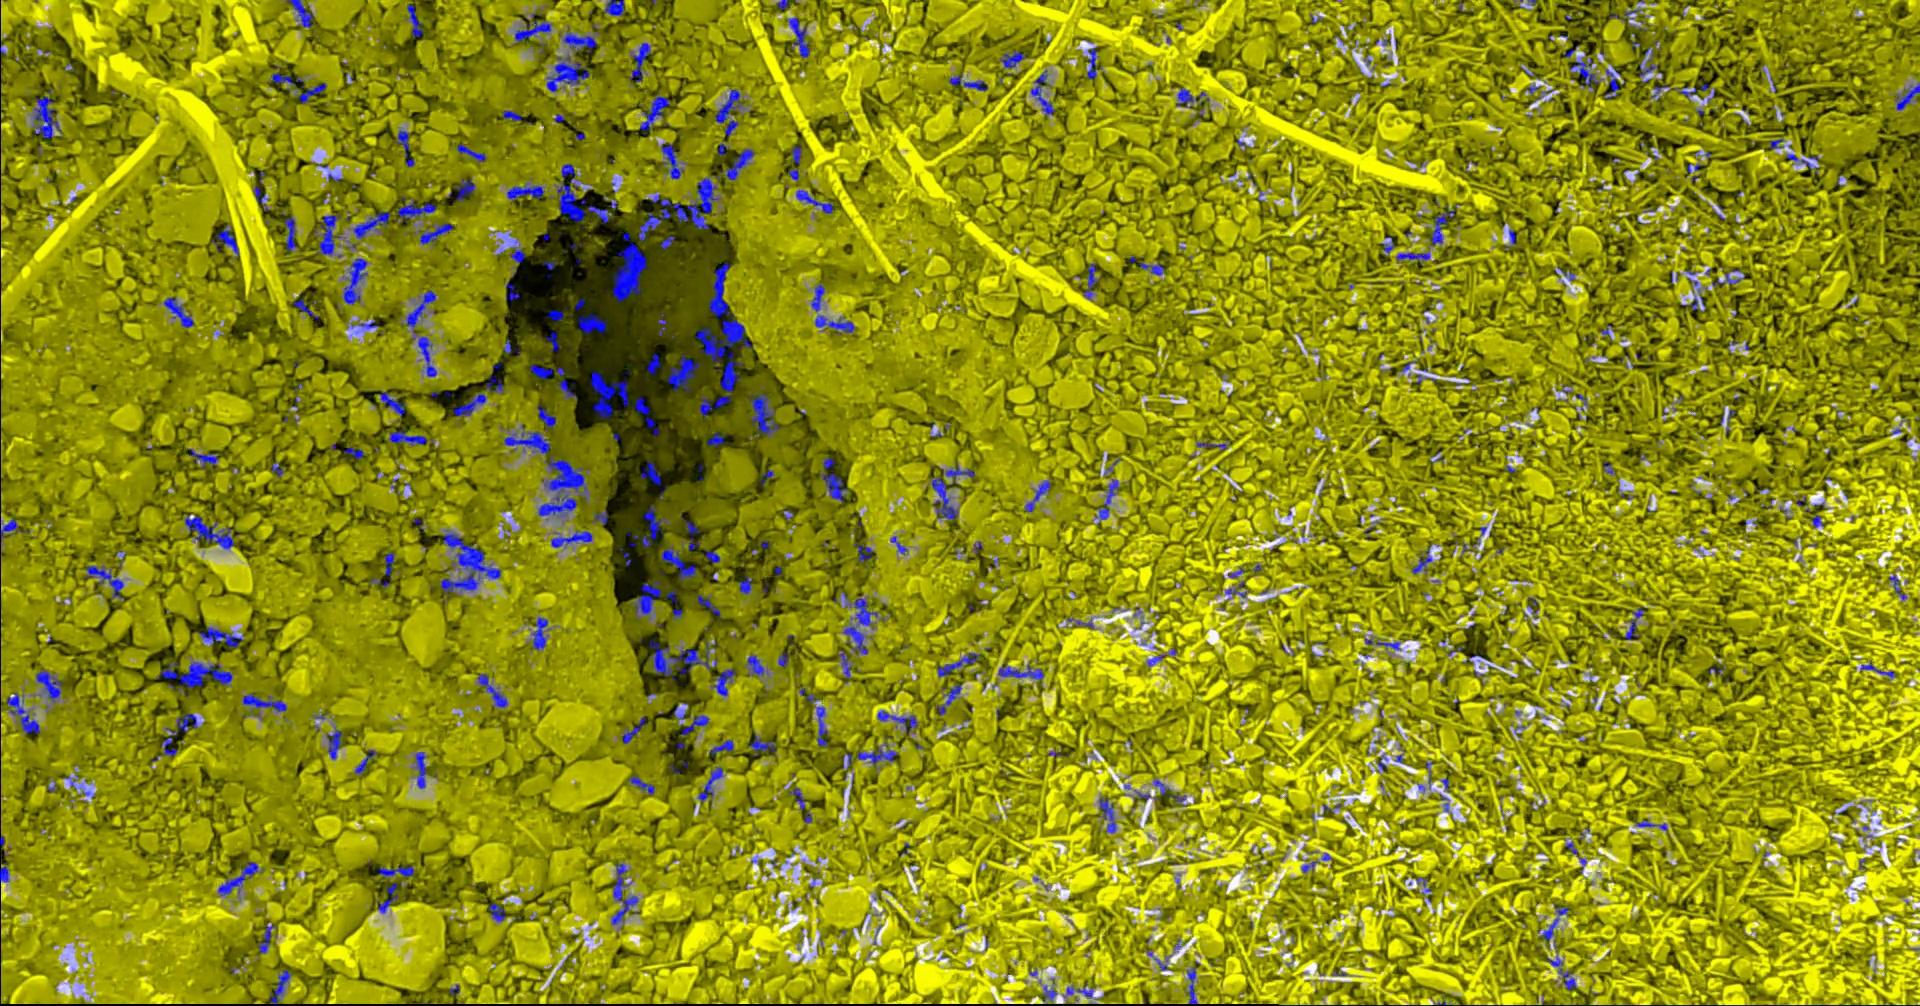ant: (556, 163, 616, 222), (648, 640, 717, 676), (155, 661, 231, 691), (589, 370, 629, 418), (626, 506, 667, 547), (610, 862, 637, 923), (184, 513, 232, 547), (530, 365, 577, 399), (546, 55, 589, 91), (160, 713, 197, 756), (217, 861, 262, 895), (401, 290, 436, 333), (32, 89, 61, 138), (749, 387, 778, 436), (83, 565, 123, 598), (6, 692, 39, 733), (714, 89, 742, 136), (503, 426, 550, 453), (818, 457, 847, 500), (660, 546, 696, 580), (630, 580, 662, 619), (637, 97, 669, 133), (667, 354, 698, 391), (931, 476, 957, 520), (856, 737, 897, 765), (1030, 69, 1054, 116), (343, 258, 367, 304), (1095, 479, 1119, 525), (937, 652, 980, 677), (720, 149, 754, 180), (514, 13, 551, 42), (316, 213, 342, 255), (1430, 205, 1455, 245), (352, 211, 390, 238), (477, 673, 507, 708), (876, 709, 917, 733), (632, 396, 658, 434), (640, 460, 665, 498), (411, 337, 436, 376), (786, 17, 809, 57), (197, 626, 243, 647), (563, 25, 596, 53), (1547, 956, 1575, 989), (795, 189, 833, 213), (697, 766, 723, 801), (1570, 57, 1599, 88), (163, 297, 193, 326), (395, 199, 436, 221), (629, 42, 650, 81), (211, 224, 237, 255), (243, 694, 286, 713), (660, 142, 683, 178), (1023, 480, 1050, 511), (36, 669, 61, 701), (936, 683, 961, 715), (270, 65, 303, 89), (452, 392, 485, 417), (269, 968, 291, 1005), (998, 662, 1043, 680), (418, 222, 452, 245), (850, 598, 877, 626), (814, 315, 855, 334), (1153, 779, 1185, 803), (377, 882, 401, 912), (550, 530, 590, 547), (287, 0, 314, 27), (291, 293, 317, 320), (843, 625, 867, 654), (395, 130, 414, 166), (1176, 86, 1208, 108), (1895, 83, 1919, 111), (1785, 152, 1818, 173), (947, 75, 987, 91), (1624, 607, 1644, 639), (378, 391, 405, 415), (621, 716, 645, 743), (1604, 69, 1625, 98), (505, 183, 543, 199), (185, 448, 218, 467), (377, 865, 414, 882), (577, 312, 606, 333), (945, 462, 974, 483), (1411, 544, 1431, 573), (1098, 796, 1115, 832), (696, 594, 721, 617), (712, 668, 734, 695), (1638, 47, 1658, 75), (298, 83, 326, 103), (681, 715, 709, 735), (1672, 83, 1707, 99), (531, 616, 547, 650), (389, 429, 425, 445), (257, 923, 276, 953), (406, 4, 423, 37), (456, 144, 486, 161), (1083, 263, 1098, 298), (354, 749, 376, 774), (999, 50, 1026, 69), (536, 404, 555, 431), (748, 735, 775, 754), (627, 775, 654, 794), (1710, 272, 1743, 287), (709, 739, 733, 760), (1086, 46, 1101, 77), (326, 728, 342, 760), (787, 145, 801, 179), (1860, 663, 1895, 677), (455, 178, 475, 201), (684, 520, 700, 550), (837, 649, 851, 682), (1888, 574, 1906, 600), (1364, 636, 1399, 649), (817, 706, 828, 746), (1538, 917, 1558, 939), (283, 213, 295, 251), (1186, 967, 1197, 1005), (1609, 6, 1639, 20), (415, 751, 427, 788), (1396, 251, 1429, 264), (747, 654, 767, 674), (1138, 260, 1164, 276), (0, 518, 17, 541), (1065, 982, 1092, 996), (853, 542, 872, 561), (811, 283, 824, 311), (789, 788, 804, 810), (485, 375, 504, 392), (488, 902, 505, 921), (1681, 296, 1705, 310), (1225, 580, 1246, 597), (602, 0, 623, 15), (509, 241, 524, 263), (646, 352, 662, 373), (1636, 819, 1667, 829), (890, 535, 907, 554), (383, 553, 394, 580), (343, 446, 364, 459), (503, 339, 521, 354), (707, 431, 725, 446), (505, 282, 519, 301), (799, 687, 818, 701), (541, 260, 555, 278), (545, 332, 557, 351), (1196, 442, 1227, 450), (590, 511, 607, 525), (738, 575, 750, 593), (659, 235, 674, 249), (1043, 986, 1057, 1001), (253, 185, 265, 202), (657, 312, 665, 335), (546, 309, 563, 320), (703, 550, 720, 561), (270, 462, 283, 476), (502, 111, 521, 119), (842, 752, 852, 768), (0, 861, 8, 882), (1769, 138, 1783, 149), (777, 652, 787, 666)
